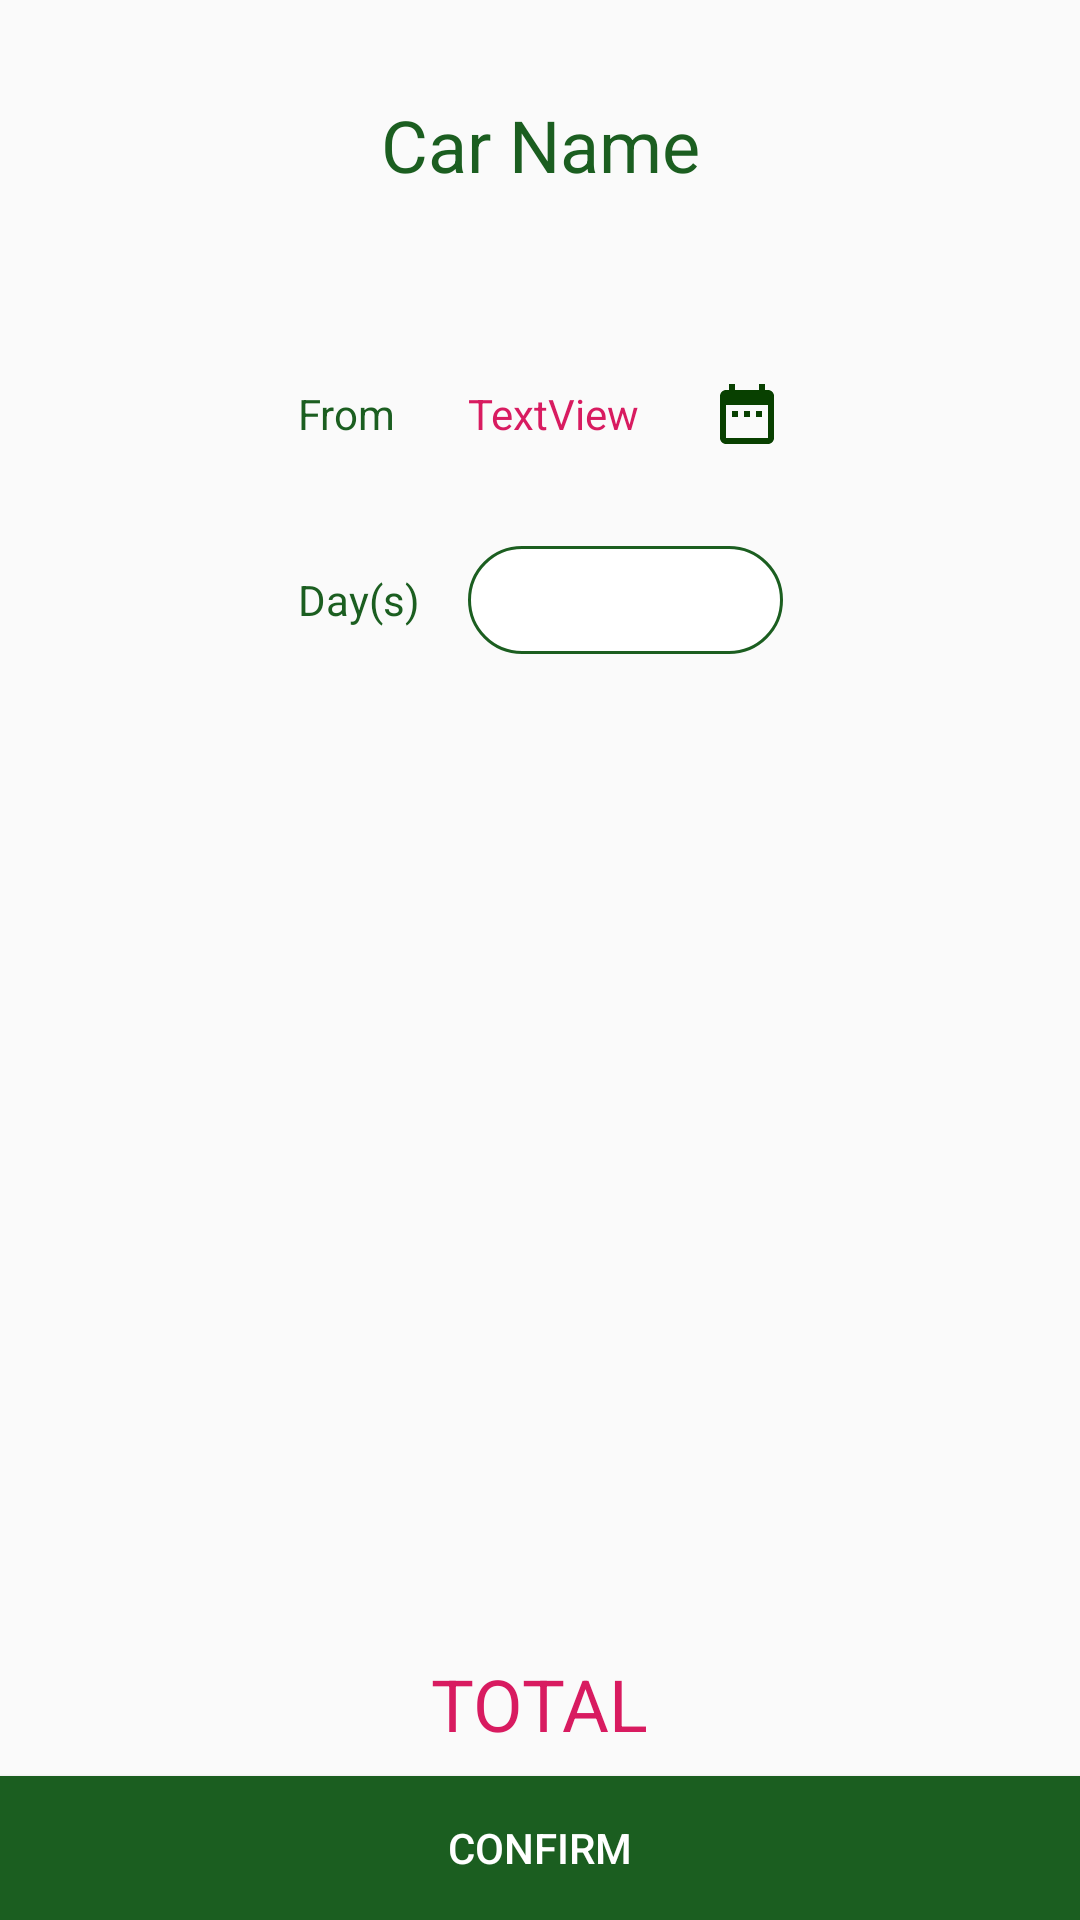

Icons on this 1080x1920 Android screen, each with its box as (x1, y1, x2, y2):
date range: (720, 384, 774, 444)
